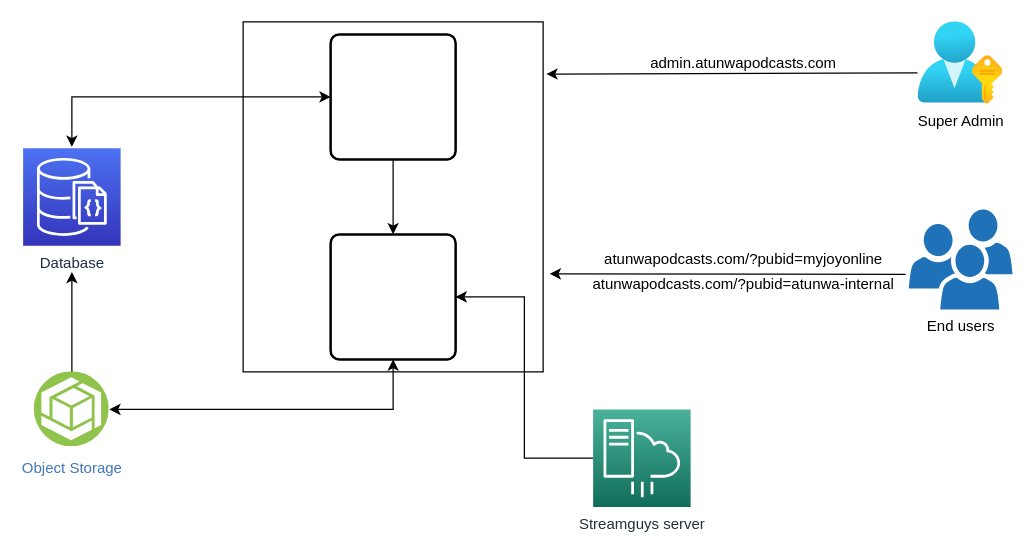
Image size: 1034x555. Some labels were removed from this diagram. The centre of each missing label's shape, as x and y in pixels:
"Apache" goes at (392,96).
"PM2 7000 & 7001 port" goes at (392,296).
